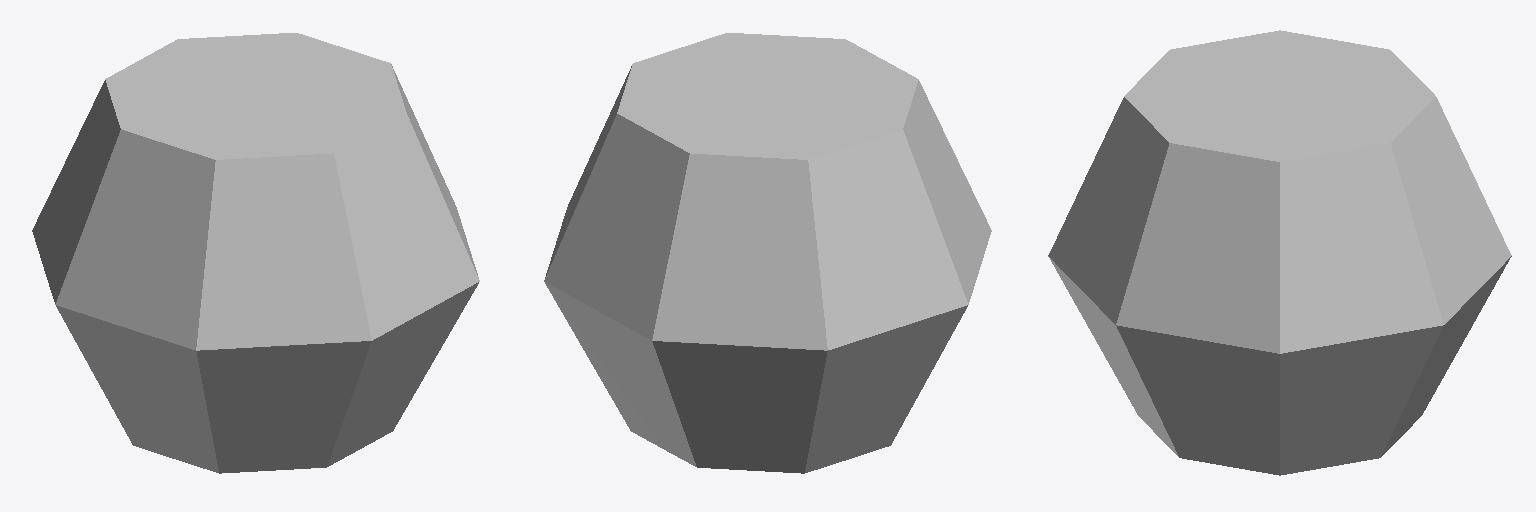
File: ArmThing.obj
3 views of the same model, side by side, from view 1: azimuth 30°, elevation 25°; view 2: azimuth 150°, elevation 25°; view 3: azimuth 270°, elevation 25° (orthographic).
Visible parts, largest first — view 1: ArmThing; view 2: ArmThing; view 3: ArmThing.
Boxes of the visible parts, box(x1,y1,x2,y2) form: ArmThing: box(32, 33, 479, 473); ArmThing: box(544, 33, 991, 473); ArmThing: box(1048, 30, 1511, 475).
Bounding box in the file's own units: 2.63 × 2 × 2.63.